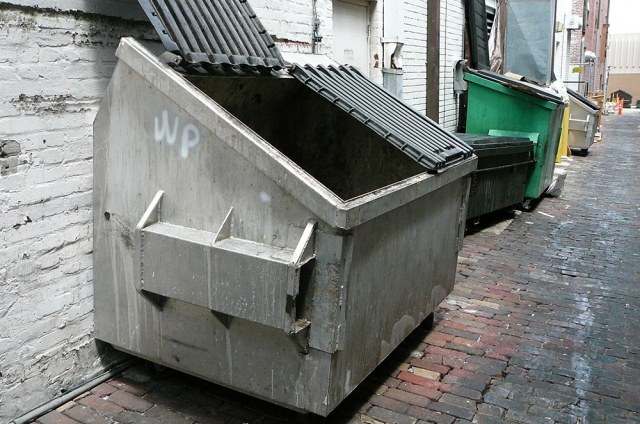Dumpster: (81, 1, 465, 420), (461, 58, 571, 225), (567, 84, 601, 159)
